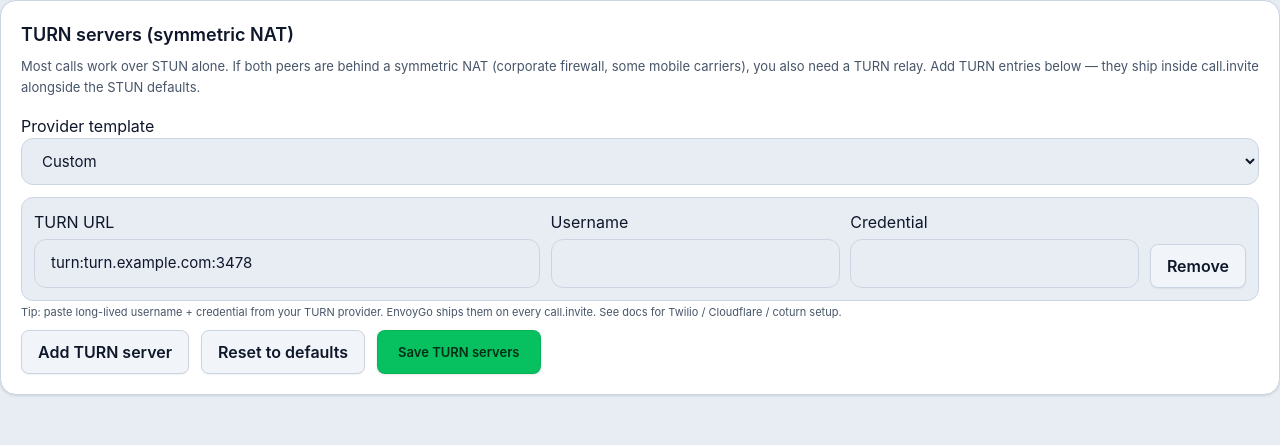
Scenario: SettingsNodeTab — TURN servers editor (Phase 42H) › blocks save and surfaces a missing-credentials error when a turn: row is incomplete
Click the button with test id "turn-save" at (459, 352), box x1=377 y1=330 x2=540 y2=374
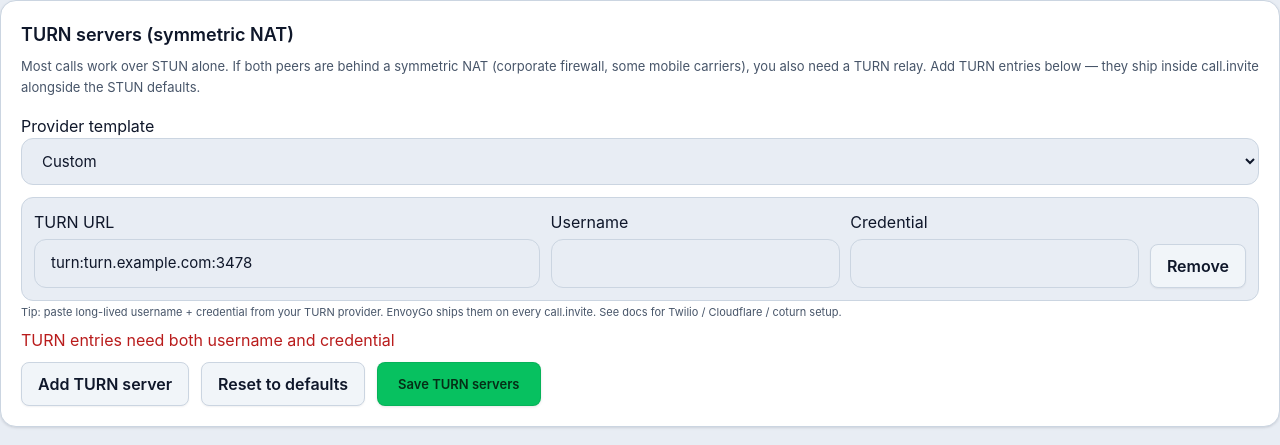
Expected: the text "TURN entries need both username and credential" is shown, x1=21 y1=330 x2=395 y2=350
